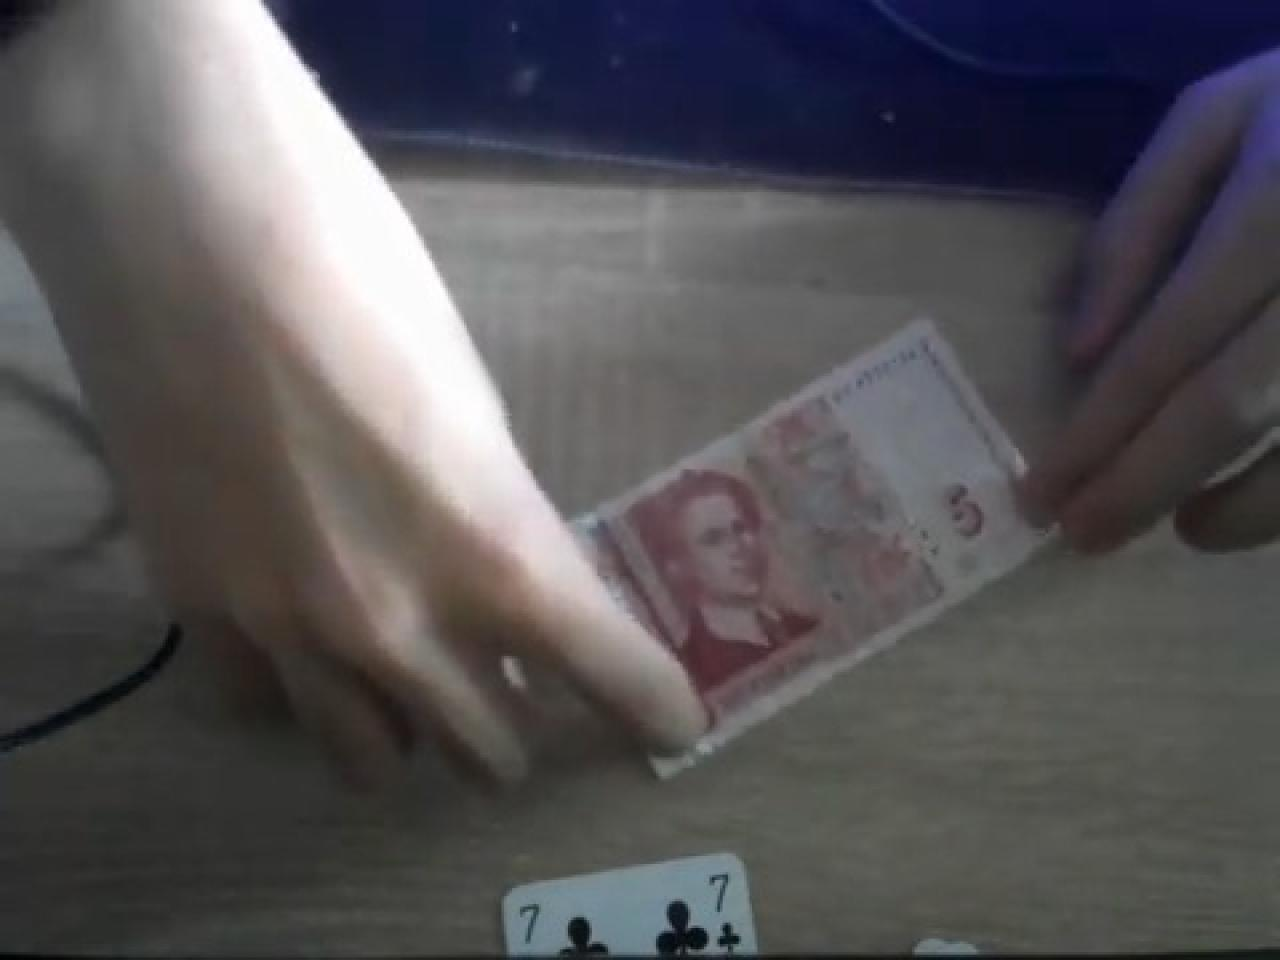5leva: (568, 320, 1058, 776)
